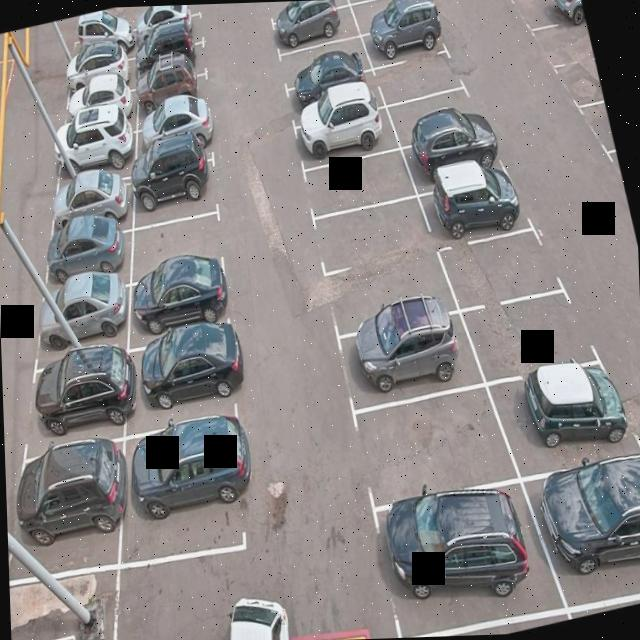car: (370, 476, 552, 636), (122, 409, 258, 572), (8, 432, 128, 592), (332, 298, 484, 414), (496, 354, 638, 476), (533, 445, 640, 603), (126, 322, 252, 418), (124, 249, 240, 335), (28, 348, 128, 443), (420, 166, 533, 244), (31, 271, 132, 357), (288, 101, 397, 170), (126, 151, 224, 224), (398, 121, 502, 188), (39, 214, 131, 285), (44, 165, 136, 230), (52, 115, 142, 174), (132, 100, 220, 160), (278, 64, 379, 114), (265, 1, 358, 54), (364, 12, 450, 65), (130, 35, 214, 86), (131, 64, 213, 116), (61, 82, 138, 136), (127, 4, 205, 52), (59, 56, 138, 98), (509, 0, 586, 38), (67, 27, 136, 66), (341, 0, 419, 8)
free: (357, 379, 516, 506), (308, 184, 441, 284), (463, 282, 588, 384), (320, 245, 456, 328), (439, 222, 560, 312), (295, 137, 417, 216), (374, 46, 471, 109), (394, 86, 479, 146), (276, 34, 373, 84), (350, 0, 437, 36), (553, 56, 605, 115), (533, 19, 594, 68), (576, 99, 616, 158), (265, 0, 354, 22)
